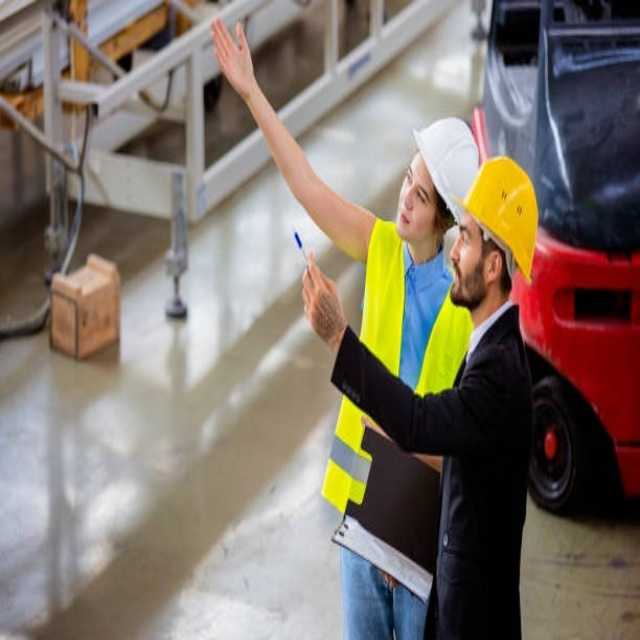Sin_gafas: (404, 158, 431, 208), (457, 214, 482, 253)
Sin_guantes: (300, 252, 345, 346), (209, 17, 257, 102)
Sin_mascara: (451, 260, 468, 305), (393, 203, 412, 238)
